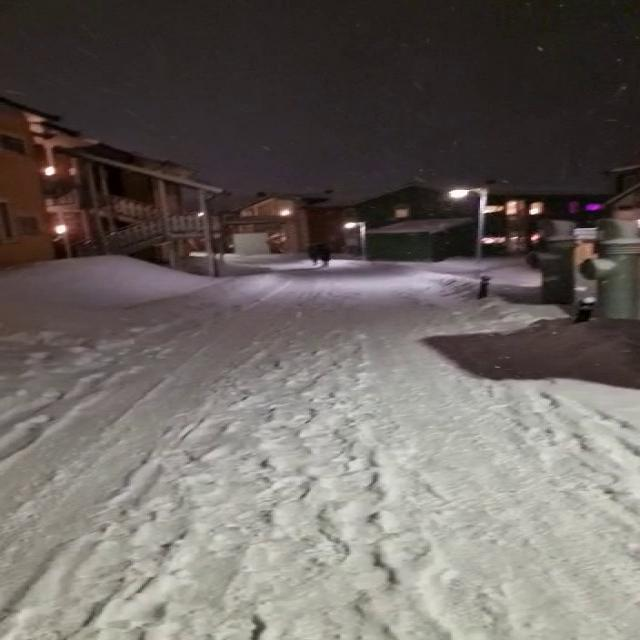path: (0, 253, 640, 640)
